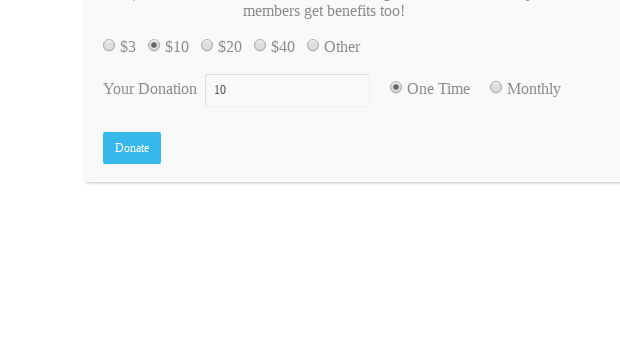fake_button: (84, 112, 178, 183)
